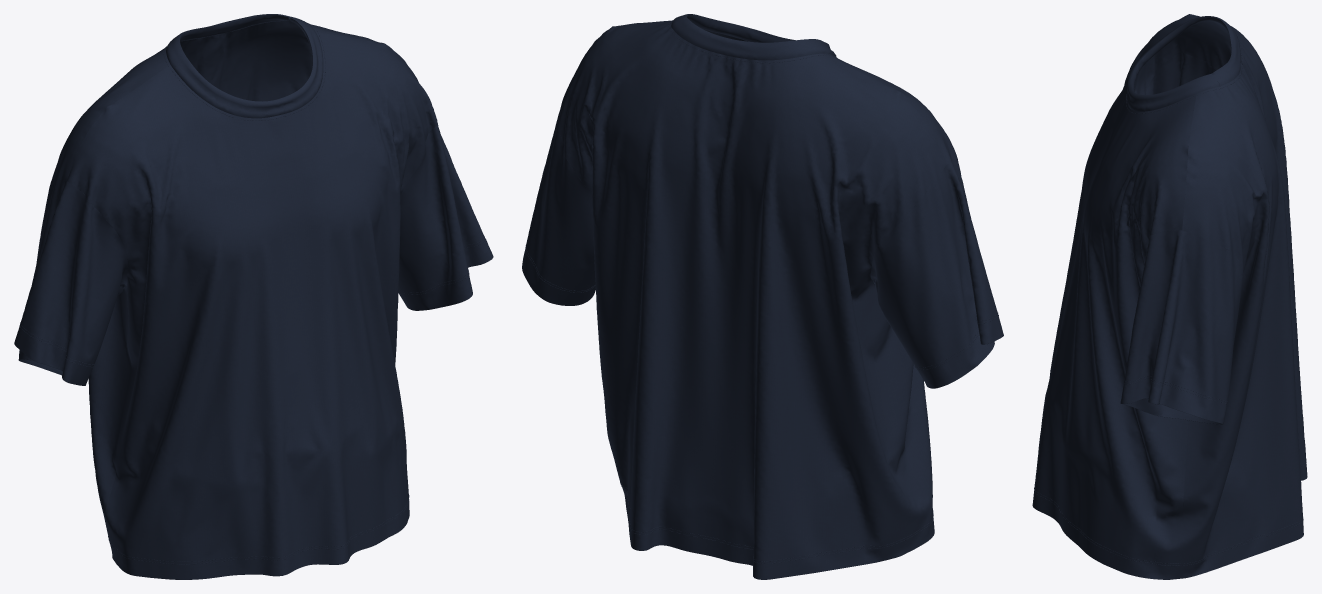
File: tricou1-transformed.glb
3 views of the same model, side by side, from view 1: azimuth 30°, elevation 25°; view 2: azimuth 150°, elevation 25°; view 3: azimuth 270°, elevation 25° (orthographic). The views are drawn at different scales.
Visible parts, largest first — view 1: Cloth, BindedTrim_62408; view 2: Cloth, BindedTrim_62408; view 3: Cloth, BindedTrim_62408.
Part boxes in pixels (left/top/right/bottom): Cloth: left=14, top=14, right=493, bottom=579; BindedTrim_62408: left=19, top=25, right=485, bottom=564; Cloth: left=522, top=14, right=1003, bottom=579; BindedTrim_62408: left=525, top=20, right=998, bottom=563; Cloth: left=1032, top=14, right=1307, bottom=579; BindedTrim_62408: left=1034, top=36, right=1306, bottom=566.
Bounding box in the file's own units: 0.2387 × 0.2465 × 0.1291.
4 materials, 4 textured.
